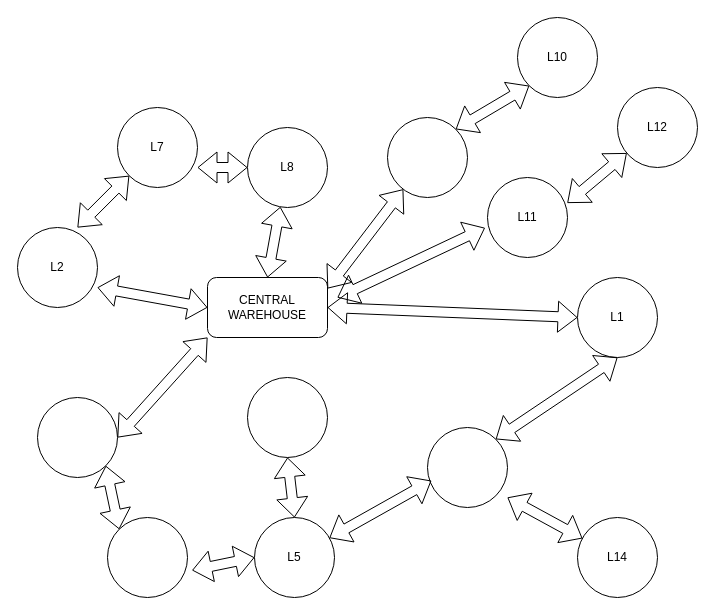
Some shapes in this 715 by 615 pixel diagram are drawn without their labels. The shapes that lost their labels are listed below. From the top down, each one's centre as x and y in pixels, then its label:
[427,157]: L9
[77,437]: L3
[287,417]: L13
[467,467]: L6
[147,557]: L4
